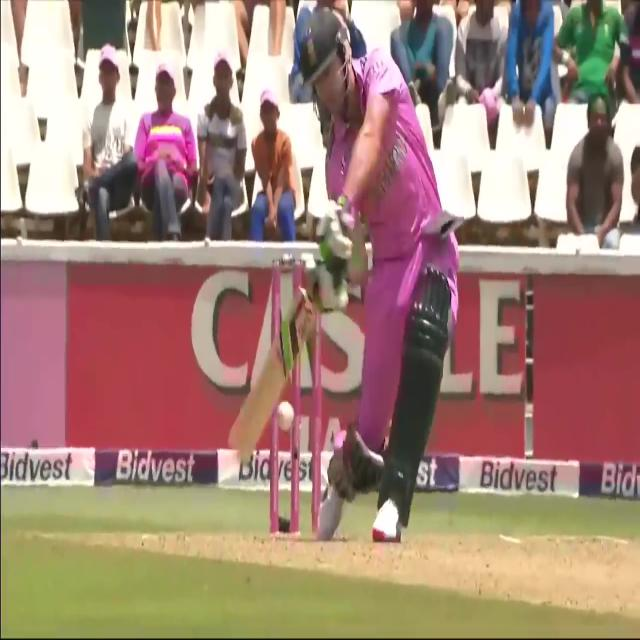Ball: (305, 2, 486, 542)
